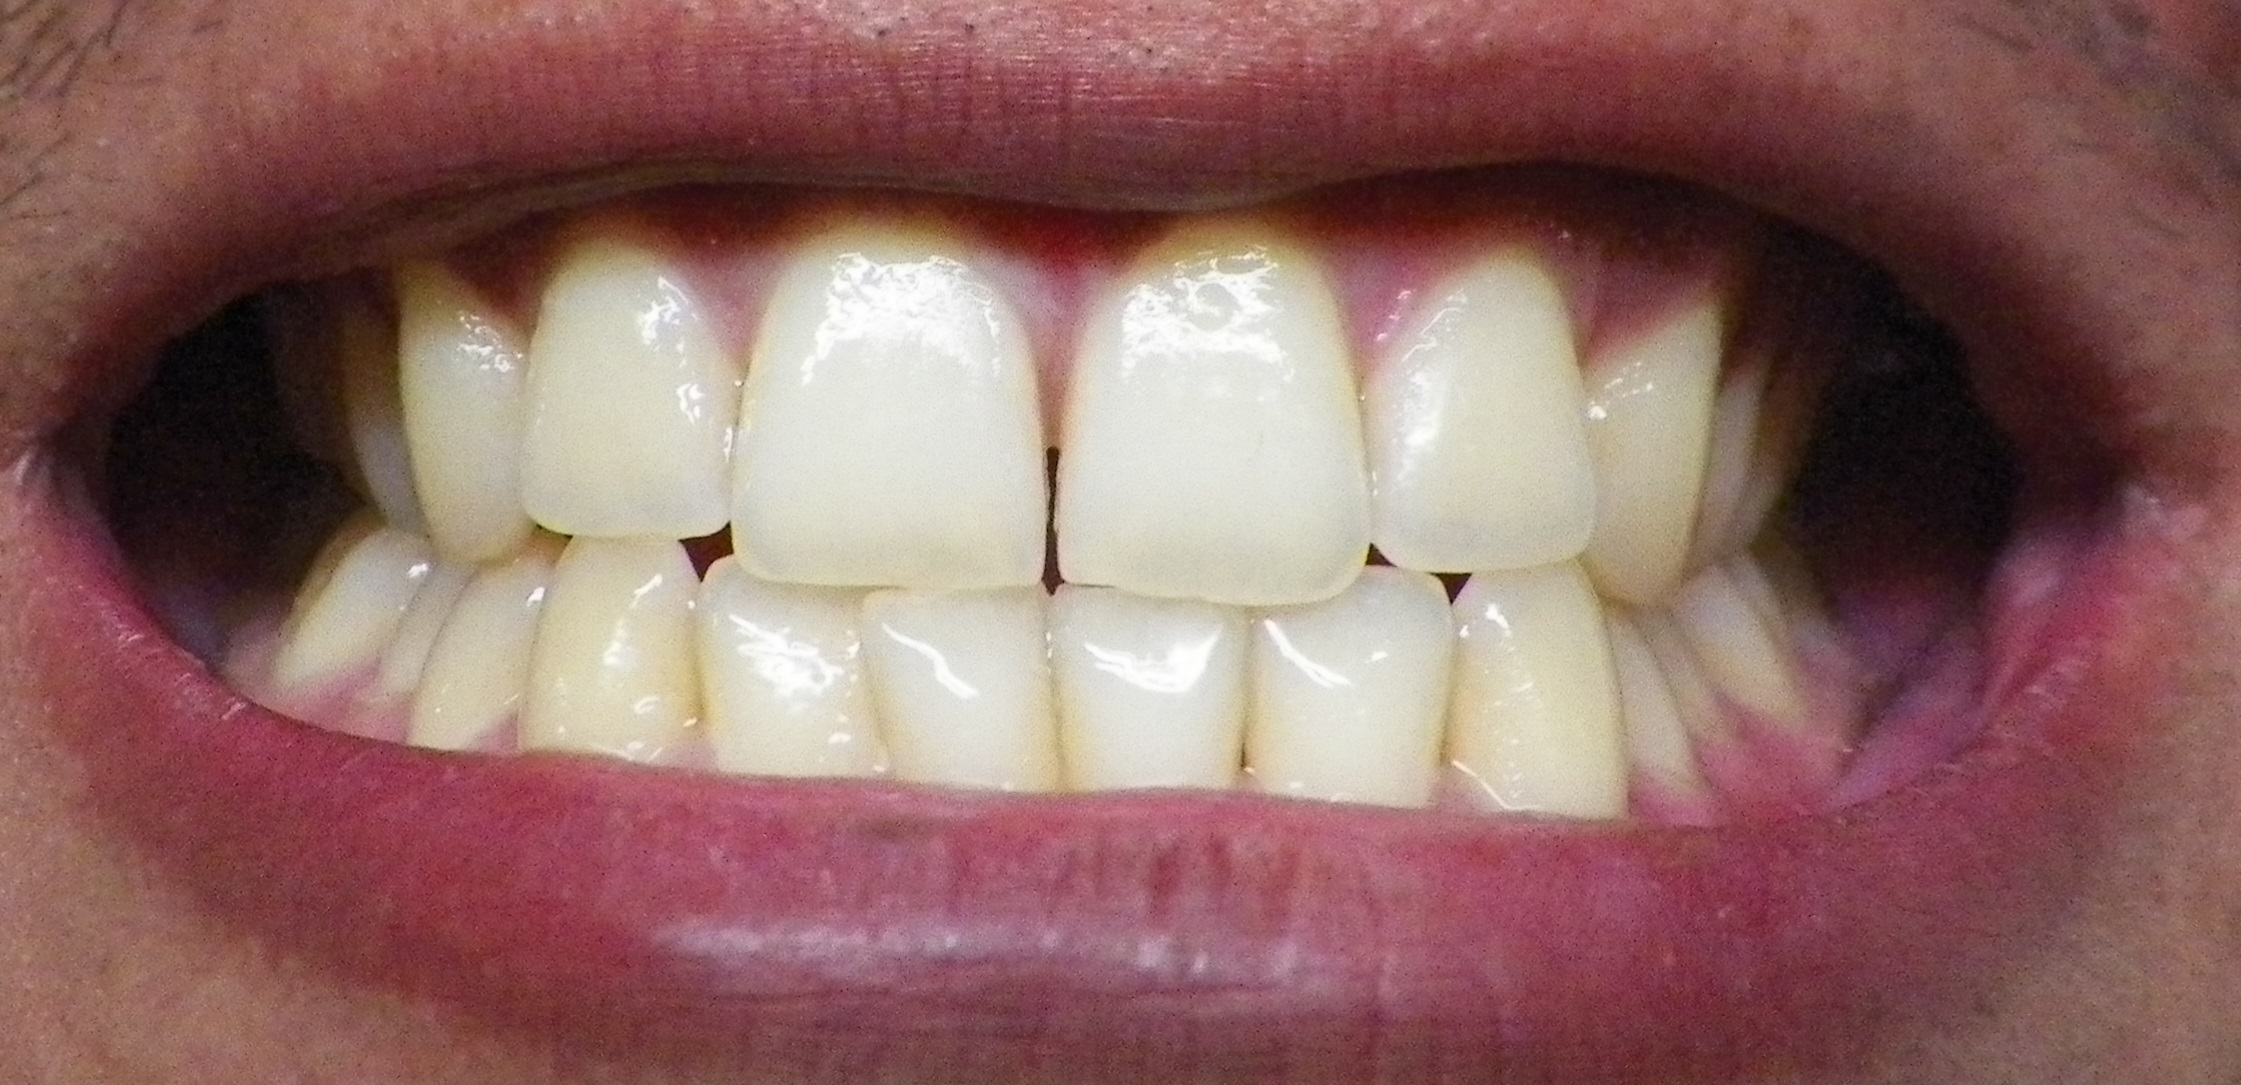boca: (179, 242, 1897, 812)
